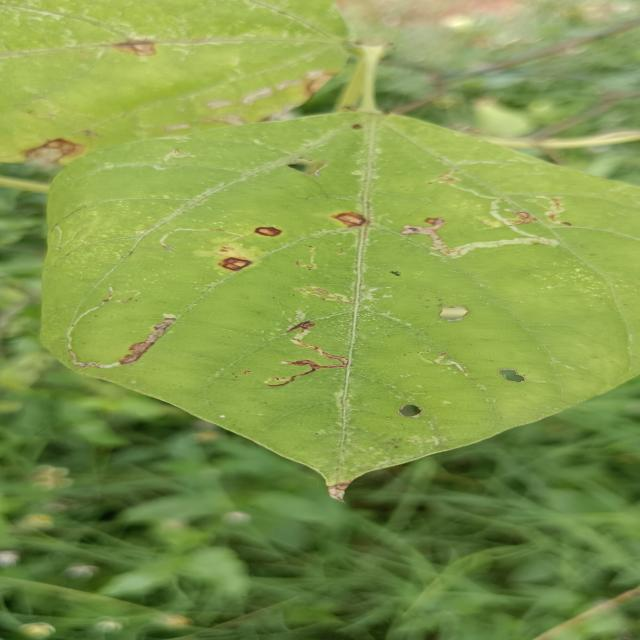Dolicos bean_cercospora leaf spot: (49, 104, 640, 496)
